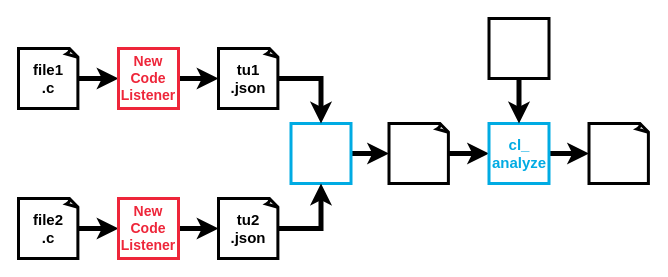
This 668x277 diagram has some shape labels left out. The shapes that lost their labels are listed below. From the top down, each one's centre as x and y in pixels, then its label:
At (518,48): "libAn .so".
At (320,153): "cl_ merge".
At (418,153): "merged .json".
At (618,153): "Output".
